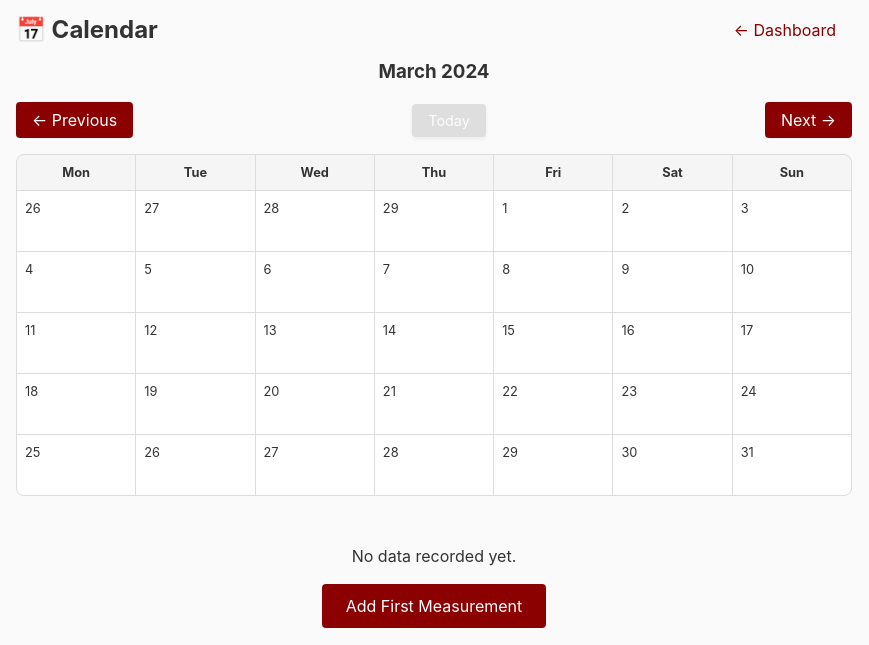
Calendar › Month Navigation › navigates to previous month when previous button clicked
This screenshot has width=869, height=645.
Click the button "← Previous".
click(75, 120)  # box [16,102,133,138]
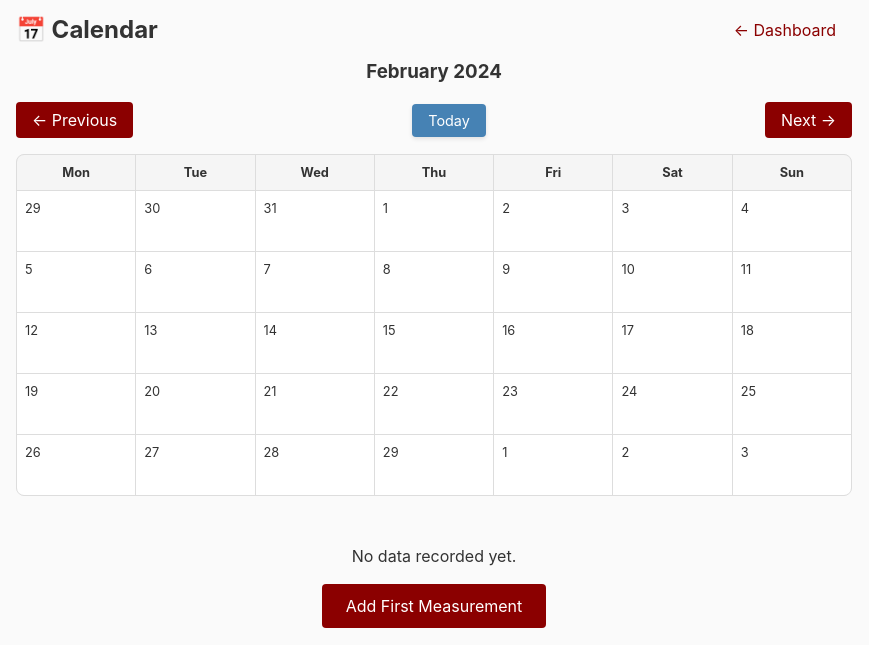
Expected: the heading "February 2024" is shown, [366,58,502,86]
